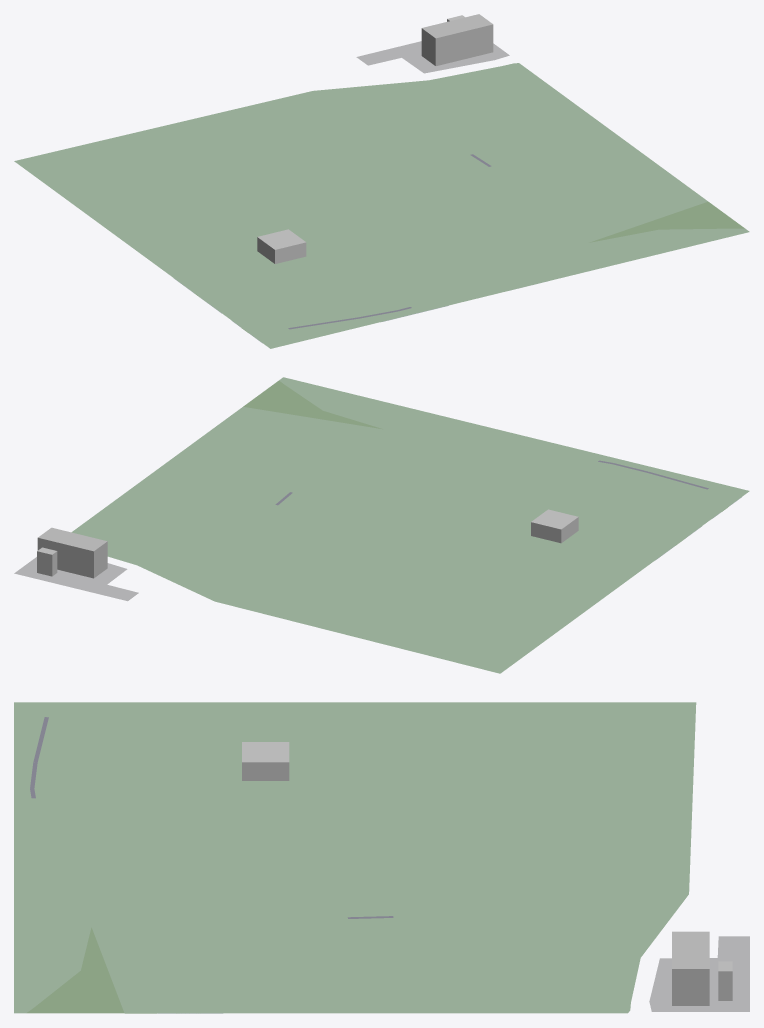
Rendered from 130_80_mid.glb.
3 views of the same model, one above another, from view 1: azimuth 30°, elevation 25°; view 2: azimuth 150°, elevation 25°; view 3: azimuth 270°, elevation 25° (orthographic). The views are drawn at different scales.
Size of the model in its own units: 500 by 29.22 by 500.
